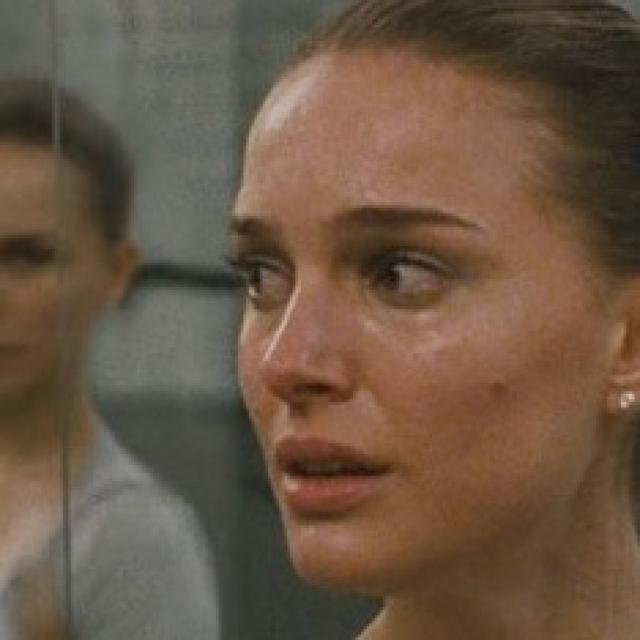Depress: (227, 55, 611, 603)
